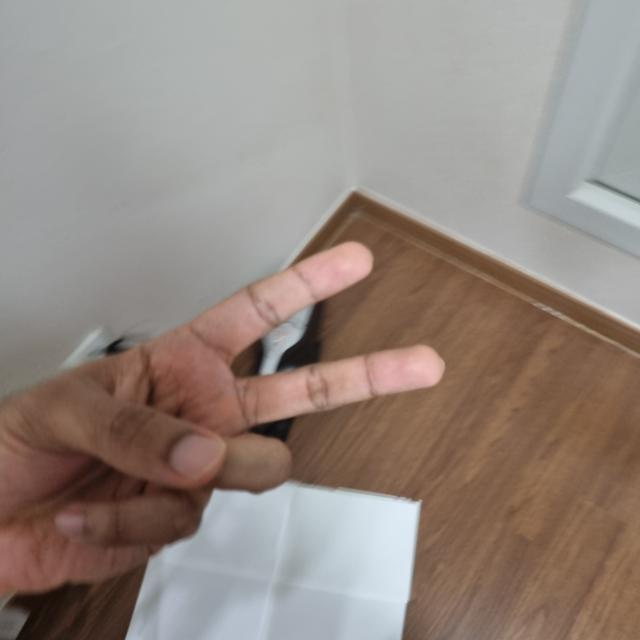Scissors: (0, 243, 441, 588)
